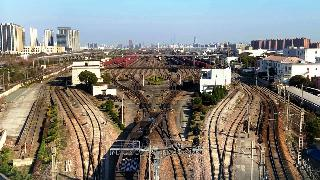train: (115, 112, 163, 180)
